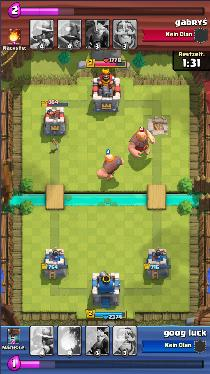ally_giant: (96, 153, 124, 181)
enemy_giant: (128, 128, 156, 158)
